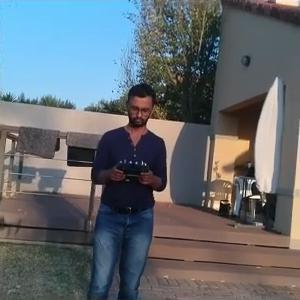follow: (84, 78, 170, 298)
